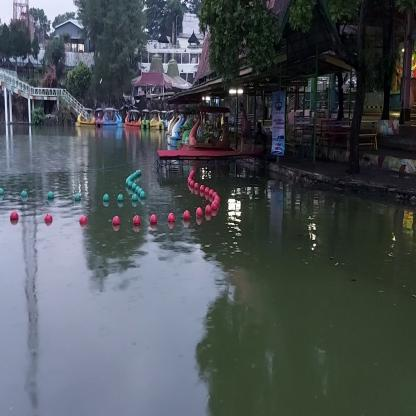green_buoy: (20, 190, 28, 202), (117, 193, 124, 204), (132, 192, 138, 204), (75, 191, 81, 202), (140, 192, 146, 202), (103, 193, 109, 203), (0, 188, 4, 202), (47, 193, 54, 201)
red_buoy: (195, 206, 203, 221), (149, 214, 158, 227), (212, 202, 219, 217), (10, 210, 18, 223), (168, 212, 176, 225), (44, 213, 52, 224), (112, 216, 120, 227), (133, 216, 140, 228), (206, 206, 212, 219), (183, 210, 190, 221), (80, 216, 87, 226)
